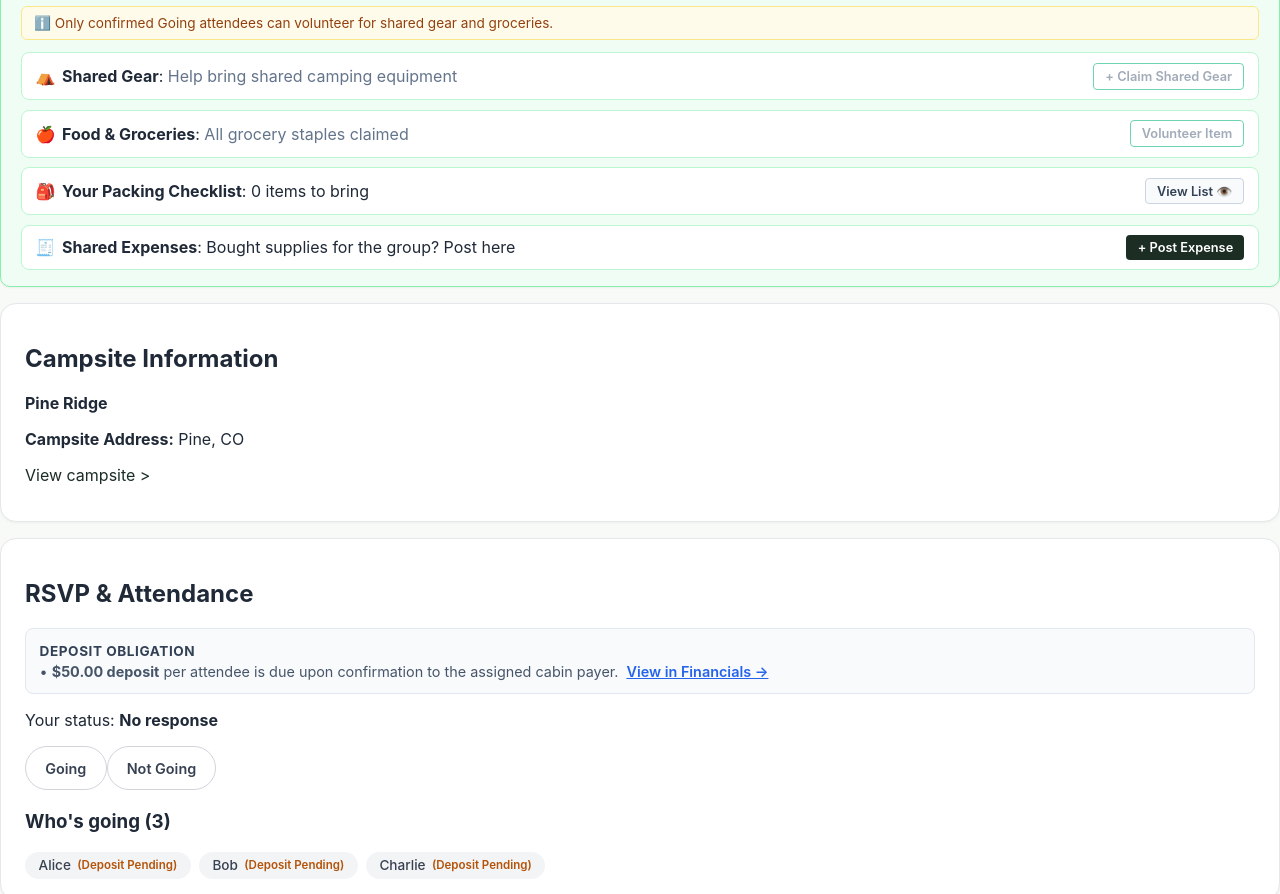
Scenario: EventDetailsPage › displays waitlist notice when Going RSVP is waitlisted
(page scrolled)
Click the button "Going" at (66, 768), box [25, 746, 106, 790]
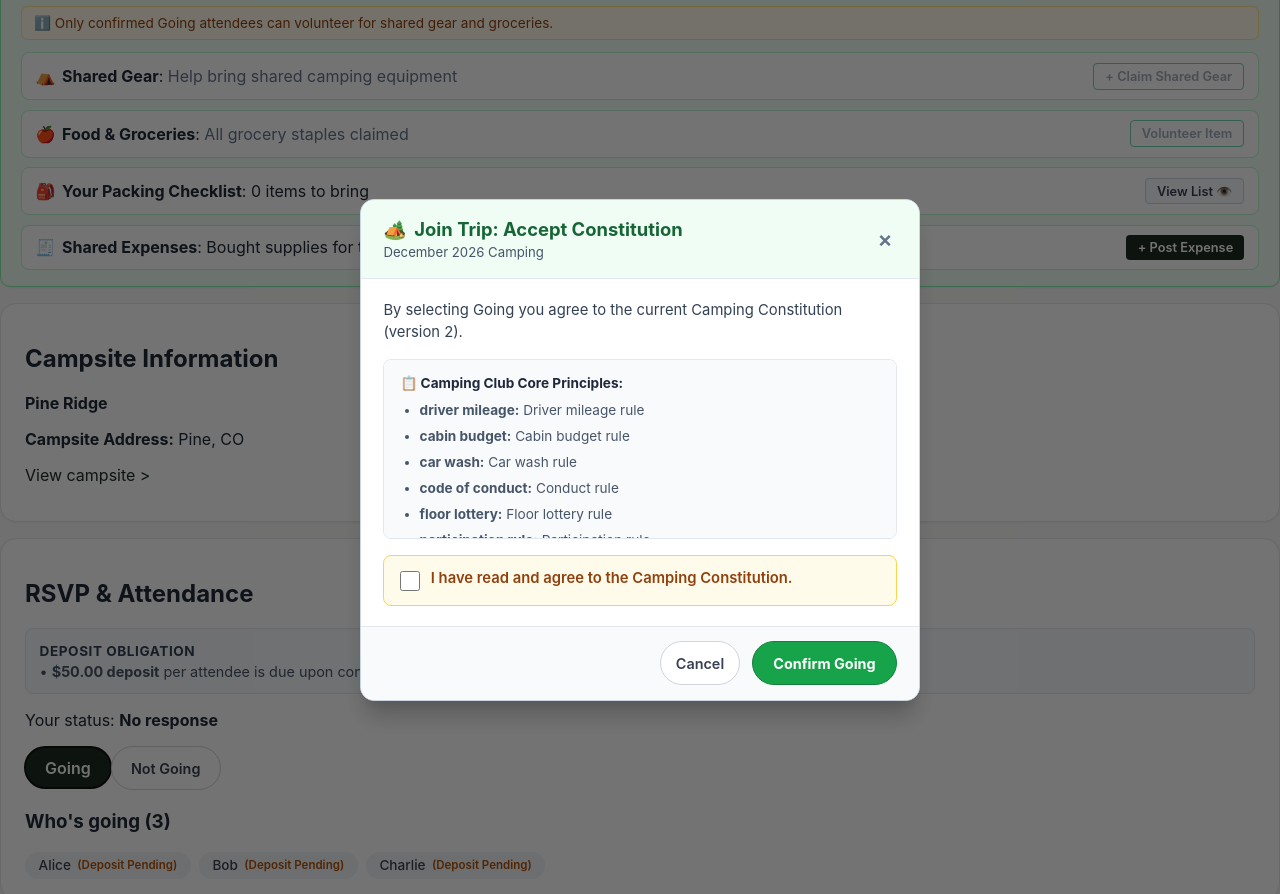
Click the checkbox labelled "I have read and agree to the Camping Constitution." at (410, 582), box [400, 572, 420, 592]
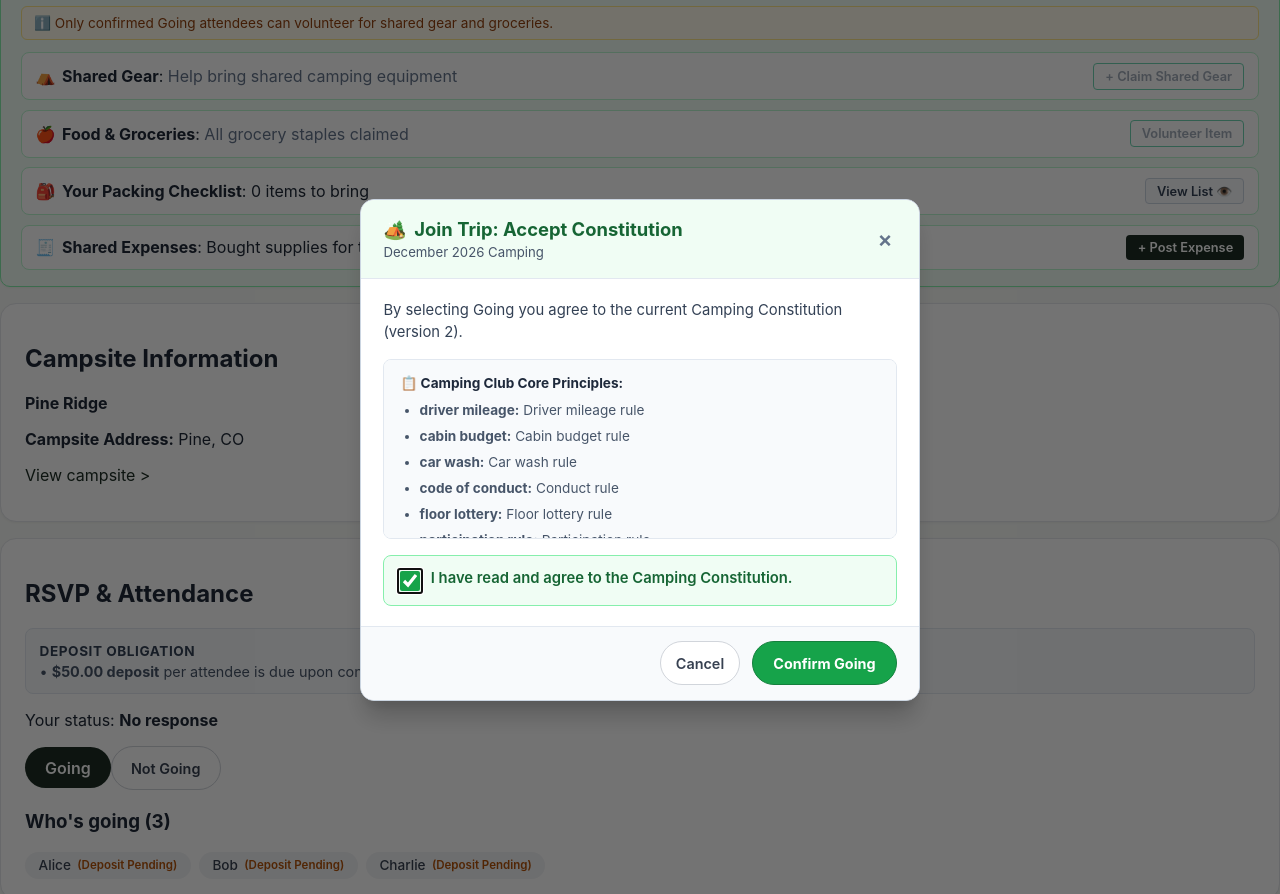
Click the button "Confirm Going" at (824, 664), box [752, 642, 897, 686]
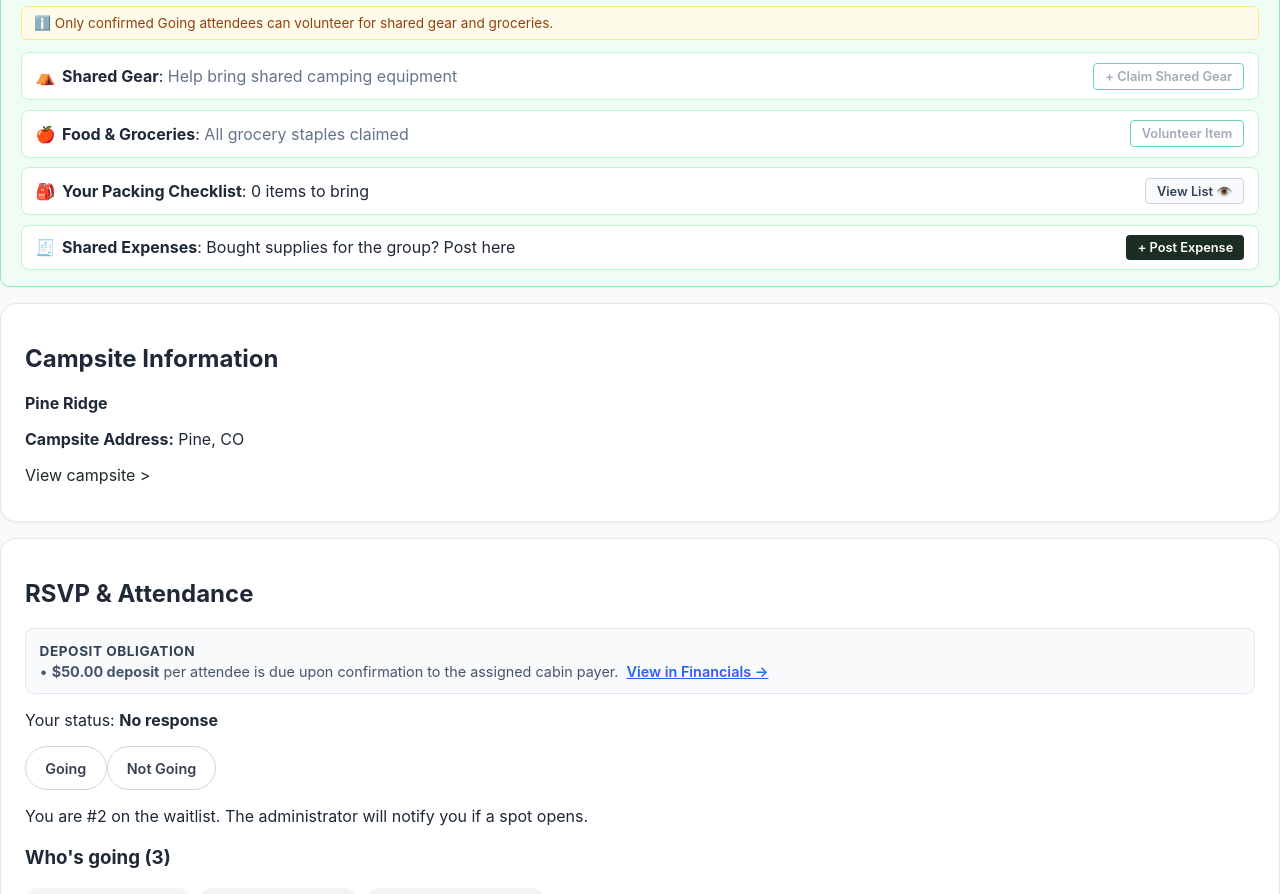
Result: the text "You are #2 on the waitlist. The administrator will notify you if a spot opens." is shown at [25, 806, 588, 826]
